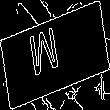M_S: (38, 25, 72, 85)
